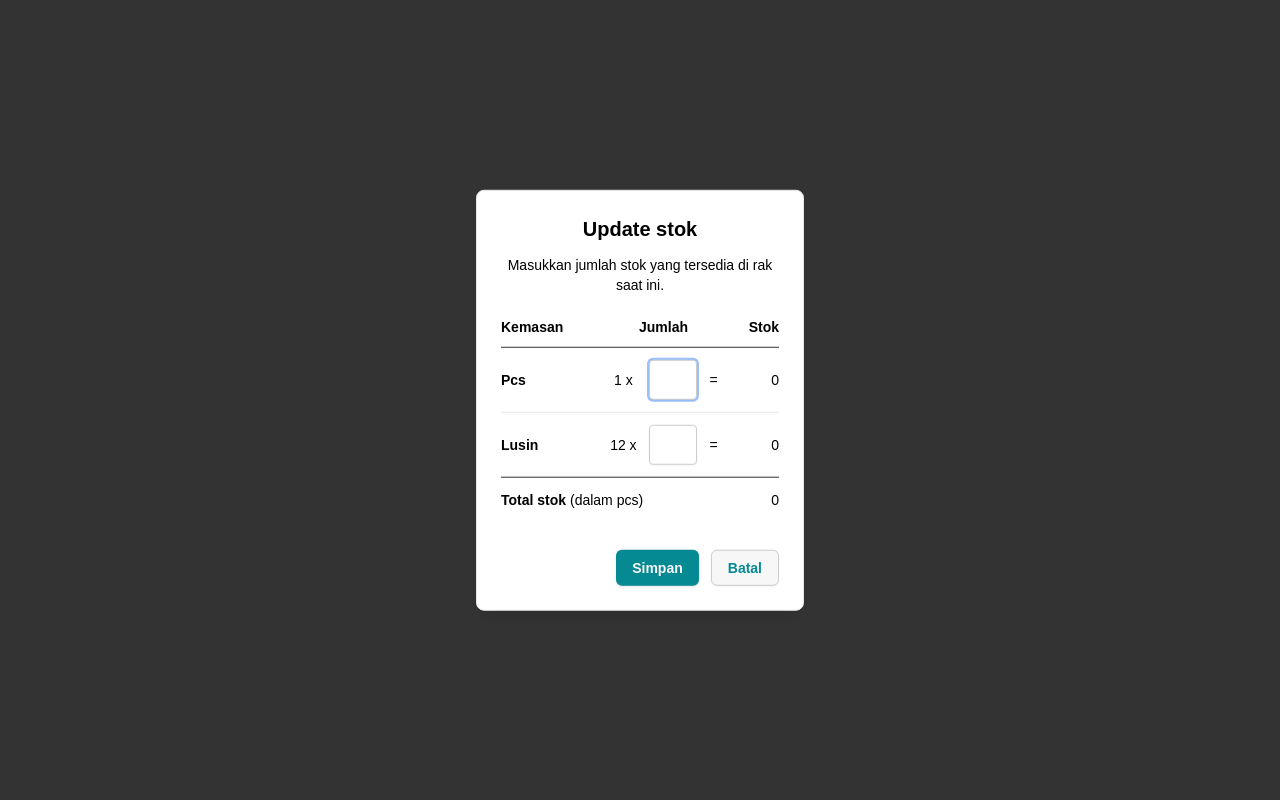
Test: should display calculated doz result based on input
Step 1. Type "2" into the number field with test id "doz-input" → (673, 444), box [649,424,697,464]
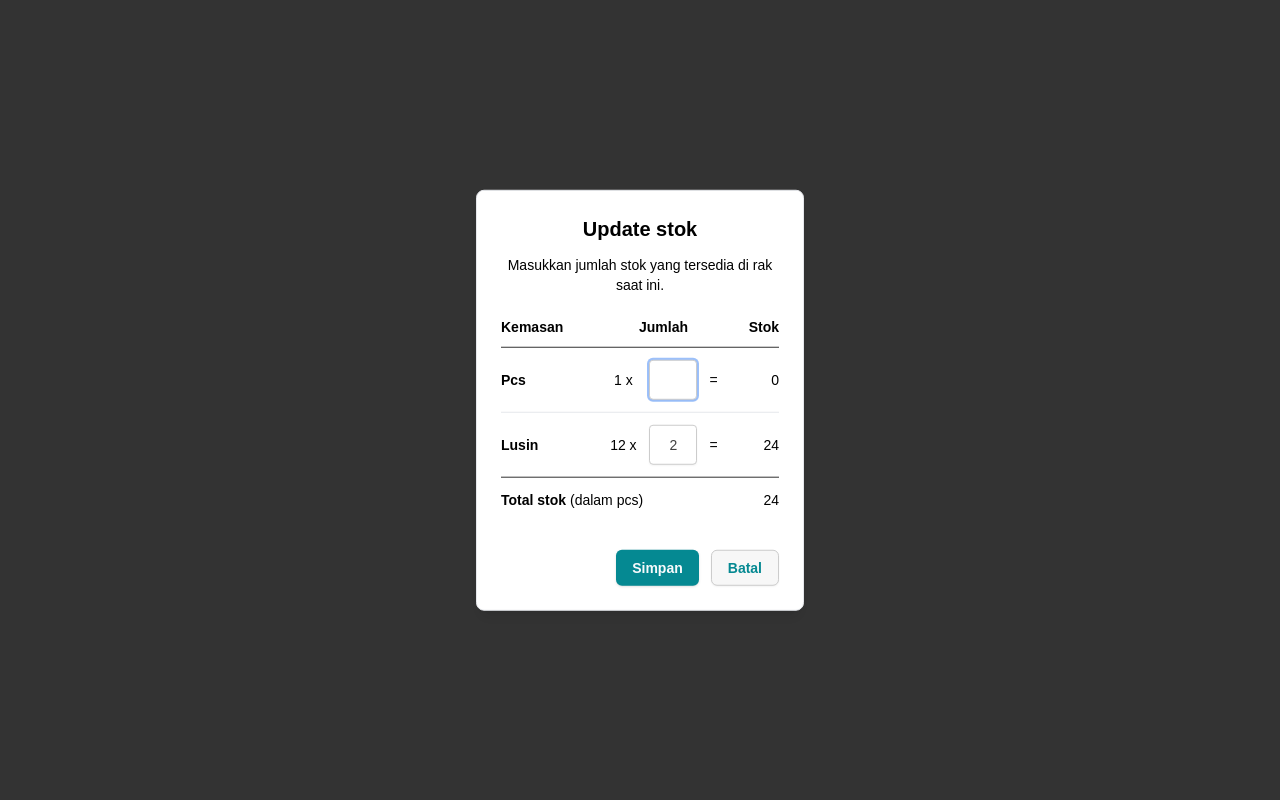
Check: the cell with test id "doz-result" reads "24", box [763,436,779,452]
